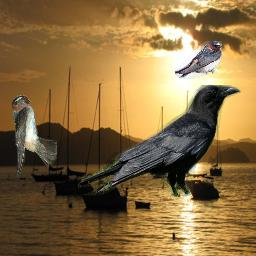Crow: (78, 85, 241, 199)
Swallow: (11, 95, 57, 178), (175, 41, 222, 79)
